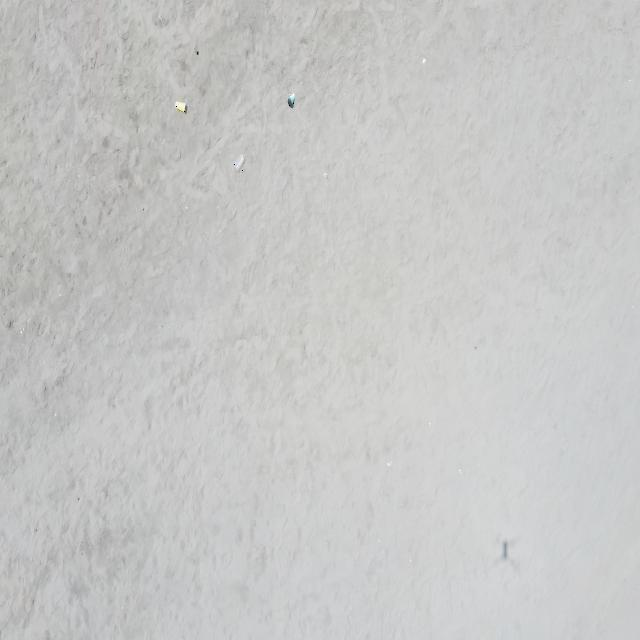takeaway-cup: (234, 154, 245, 173), (175, 100, 186, 114), (288, 92, 295, 107)
